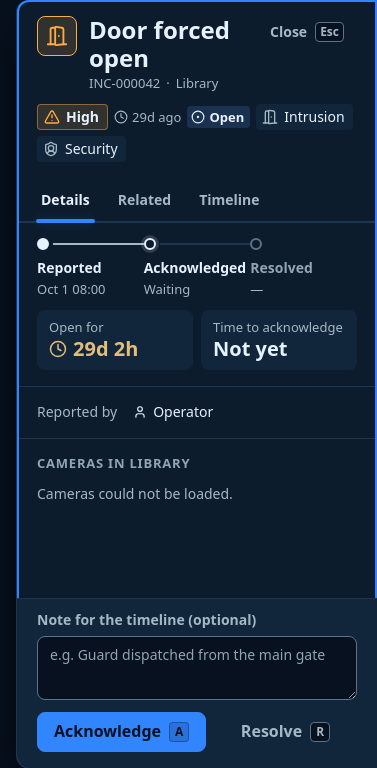
Scenario: IncidentDetail › tabs › Related › says the items could not be loaded, and draws no number, when a list failed
expect the text "Cameras could not be loaded." is shown: met, box [37, 484, 233, 503]
Click the tab "Related" at (144, 200), box [106, 178, 183, 222]
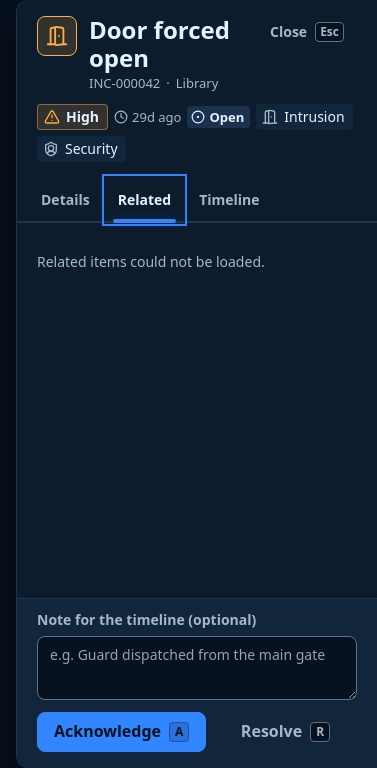
expect the text "Related items could not be loaded." is shown: met, box [37, 252, 265, 271]
